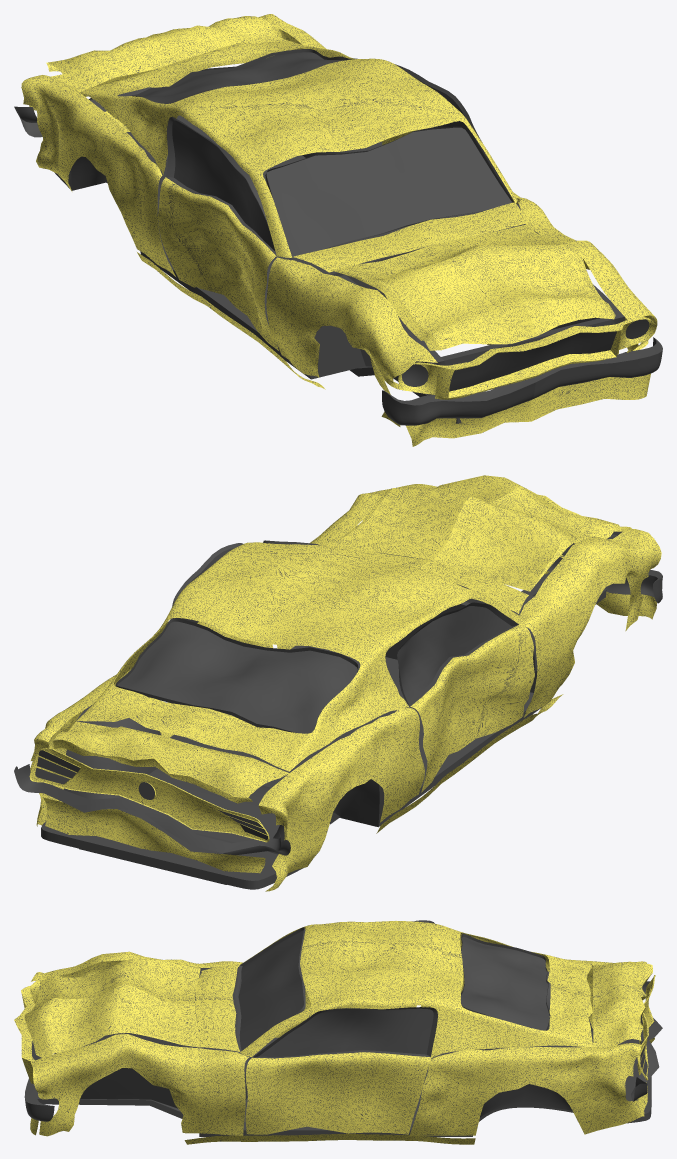
Rendered from MustangDamaged.fbx.
3 views of the same model, one above another, from view 1: azimuth 30°, elevation 25°; view 2: azimuth 150°, elevation 25°; view 3: azimuth 270°, elevation 25° (orthographic). The views are drawn at different scales.
Parts seen in each view (by area): view 1: Roof, Hood, WindowFront, DoorRight, PanelFrontRight, BumperFront, PanelFrontRight.002, FasciaFront, FrameB, Trunk, PanelTop, WindowRear (+5 smaller); view 2: Roof, Hood, WindowRear, DoorRight, FrameB, PanelFrontRight.002, PanelFrontRight, Trunk, FasciaRear, PanelRear, BumperRear, PanelTop (+6 smaller); view 3: Roof, DoorLeft, PanelRearLeft, PanelFrontLeft, Hood, FrameB, WindowRear, WindowFront, Trunk, PanelTop, PanelLeft, PanelFrontRight (+7 smaller).
Boxes of the visible parts, <box> form: Roof: <box>81,41,517,257</box>; Hood: <box>330,224,615,350</box>; WindowFront: <box>265,126,513,258</box>; DoorRight: <box>158,117,278,350</box>; PanelFrontRight: <box>266,257,437,426</box>; BumperFront: <box>382,337,662,446</box>; PanelFrontRight.002: <box>21,75,175,276</box>; FasciaFront: <box>398,317,656,399</box>; FrameB: <box>54,115,624,395</box>; Trunk: <box>46,16,288,92</box>; PanelTop: <box>293,202,526,272</box>; WindowRear: <box>130,49,357,103</box>; Roof: <box>77,542,520,771</box>; Hood: <box>331,475,622,591</box>; WindowRear: <box>115,618,358,733</box>; DoorRight: <box>397,602,534,792</box>; FrameB: <box>41,534,617,889</box>; PanelFrontRight.002: <box>258,707,424,891</box>; PanelFrontRight: <box>519,529,661,717</box>; Trunk: <box>53,721,288,803</box>; FasciaRear: <box>29,748,269,842</box>; PanelRear: <box>43,797,265,873</box>; BumperRear: <box>14,764,290,855</box>; PanelTop: <box>324,544,528,613</box>; Roof: <box>240,921,592,1058</box>; DoorLeft: <box>245,1007,437,1134</box>; PanelRearLeft: <box>409,1043,644,1135</box>; PanelFrontLeft: <box>30,1034,249,1136</box>; Hood: <box>24,958,200,1057</box>; FrameB: <box>39,967,651,1136</box>; WindowRear: <box>461,933,550,1030</box>; WindowFront: <box>234,927,305,1052</box>; Trunk: <box>592,961,652,1047</box>; PanelTop: <box>194,964,240,1051</box>; PanelLeft: <box>184,1133,475,1144</box>; PanelFrontRight: <box>31,951,242,981</box>.
Size of the model in its own units: 167 by 105 by 432.
